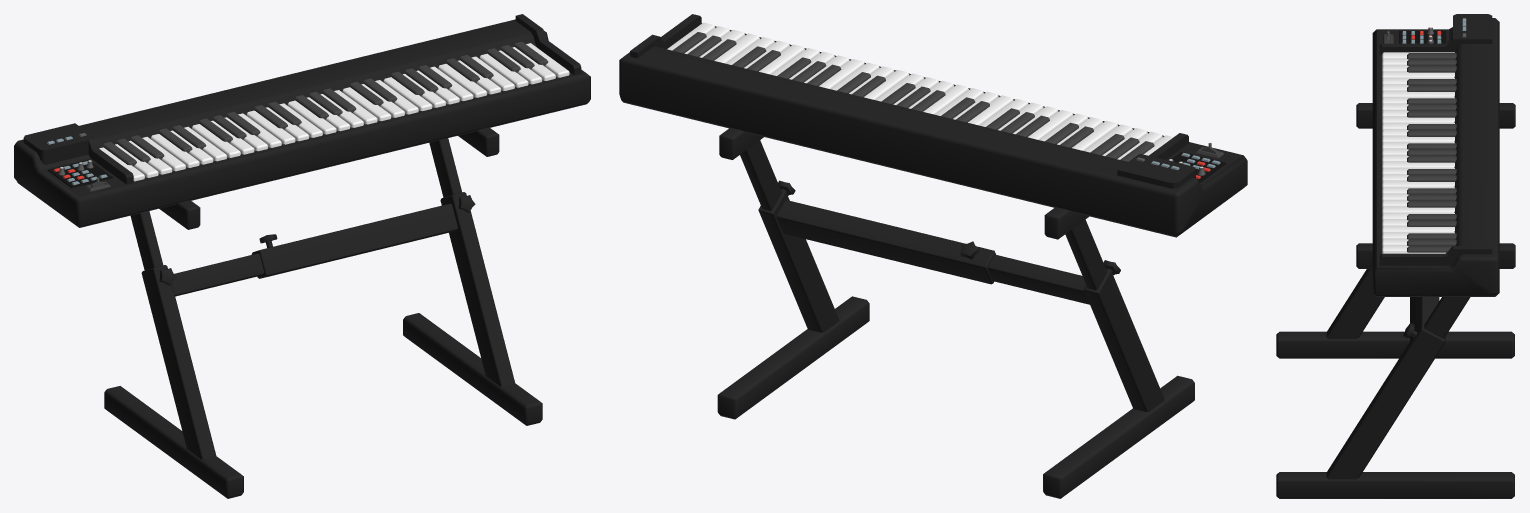
File: entertainment_012.fbx
The picture shows the model from 3 angles, left to right: view 1: azimuth 30°, elevation 25°; view 2: azimuth 150°, elevation 25°; view 3: azimuth 270°, elevation 25°; orthographic projection. The views are drawn at different scales.
Visible parts, largest first — view 1: entertainment_012; view 2: entertainment_012; view 3: entertainment_012.
Part boxes in pixels (bbox=[...]): entertainment_012: bbox=[14, 14, 590, 498]; entertainment_012: bbox=[619, 14, 1247, 498]; entertainment_012: bbox=[1276, 14, 1515, 498].
Size of the model in its own units: 178 by 74.26 by 101.
